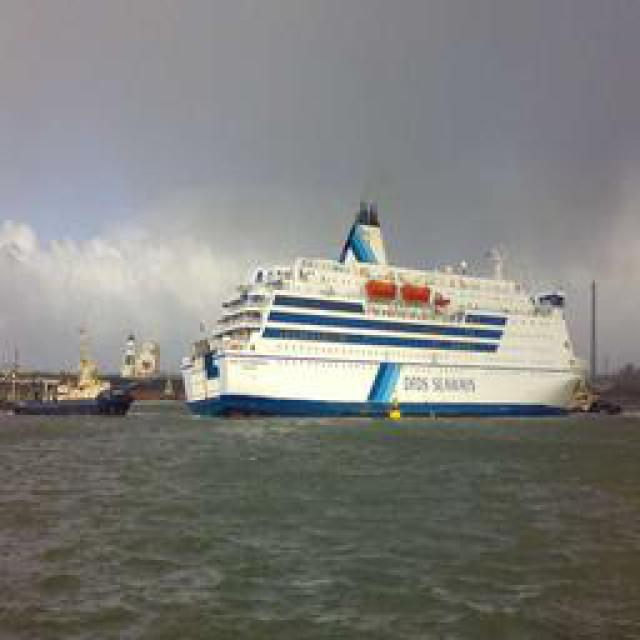Ship: (184, 196, 604, 421)
